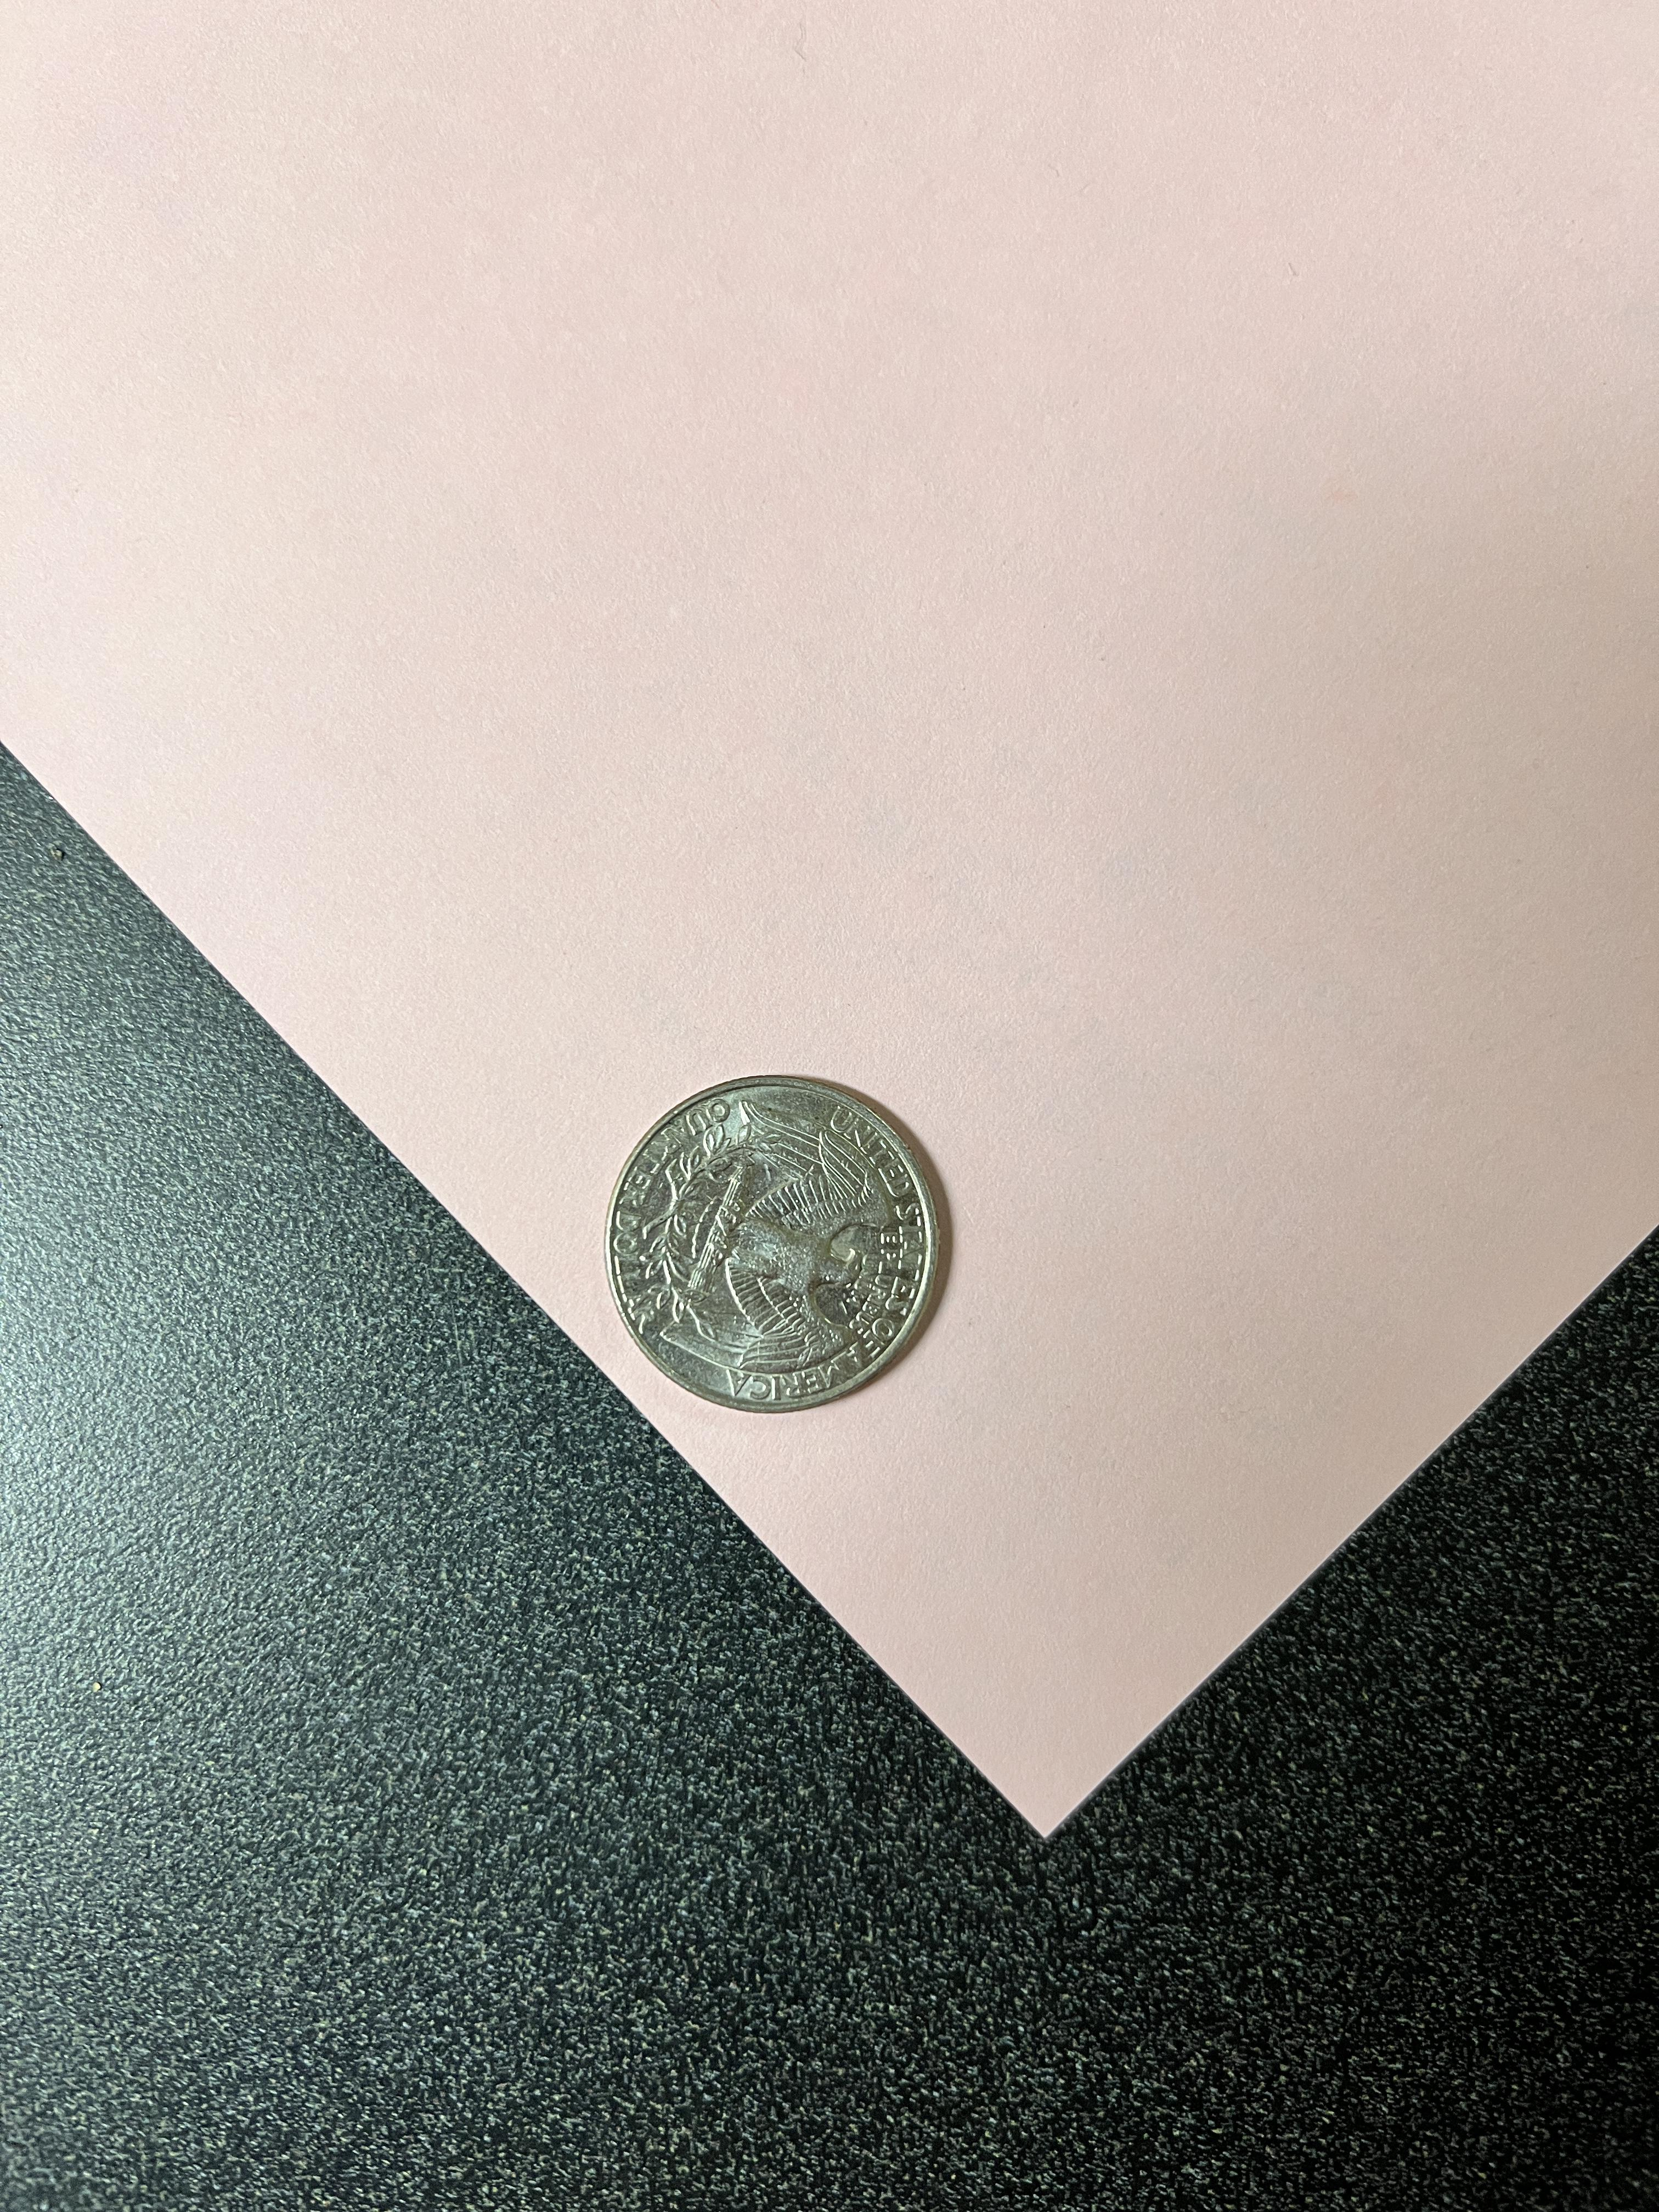Quarter: (594, 1061, 955, 1430)
